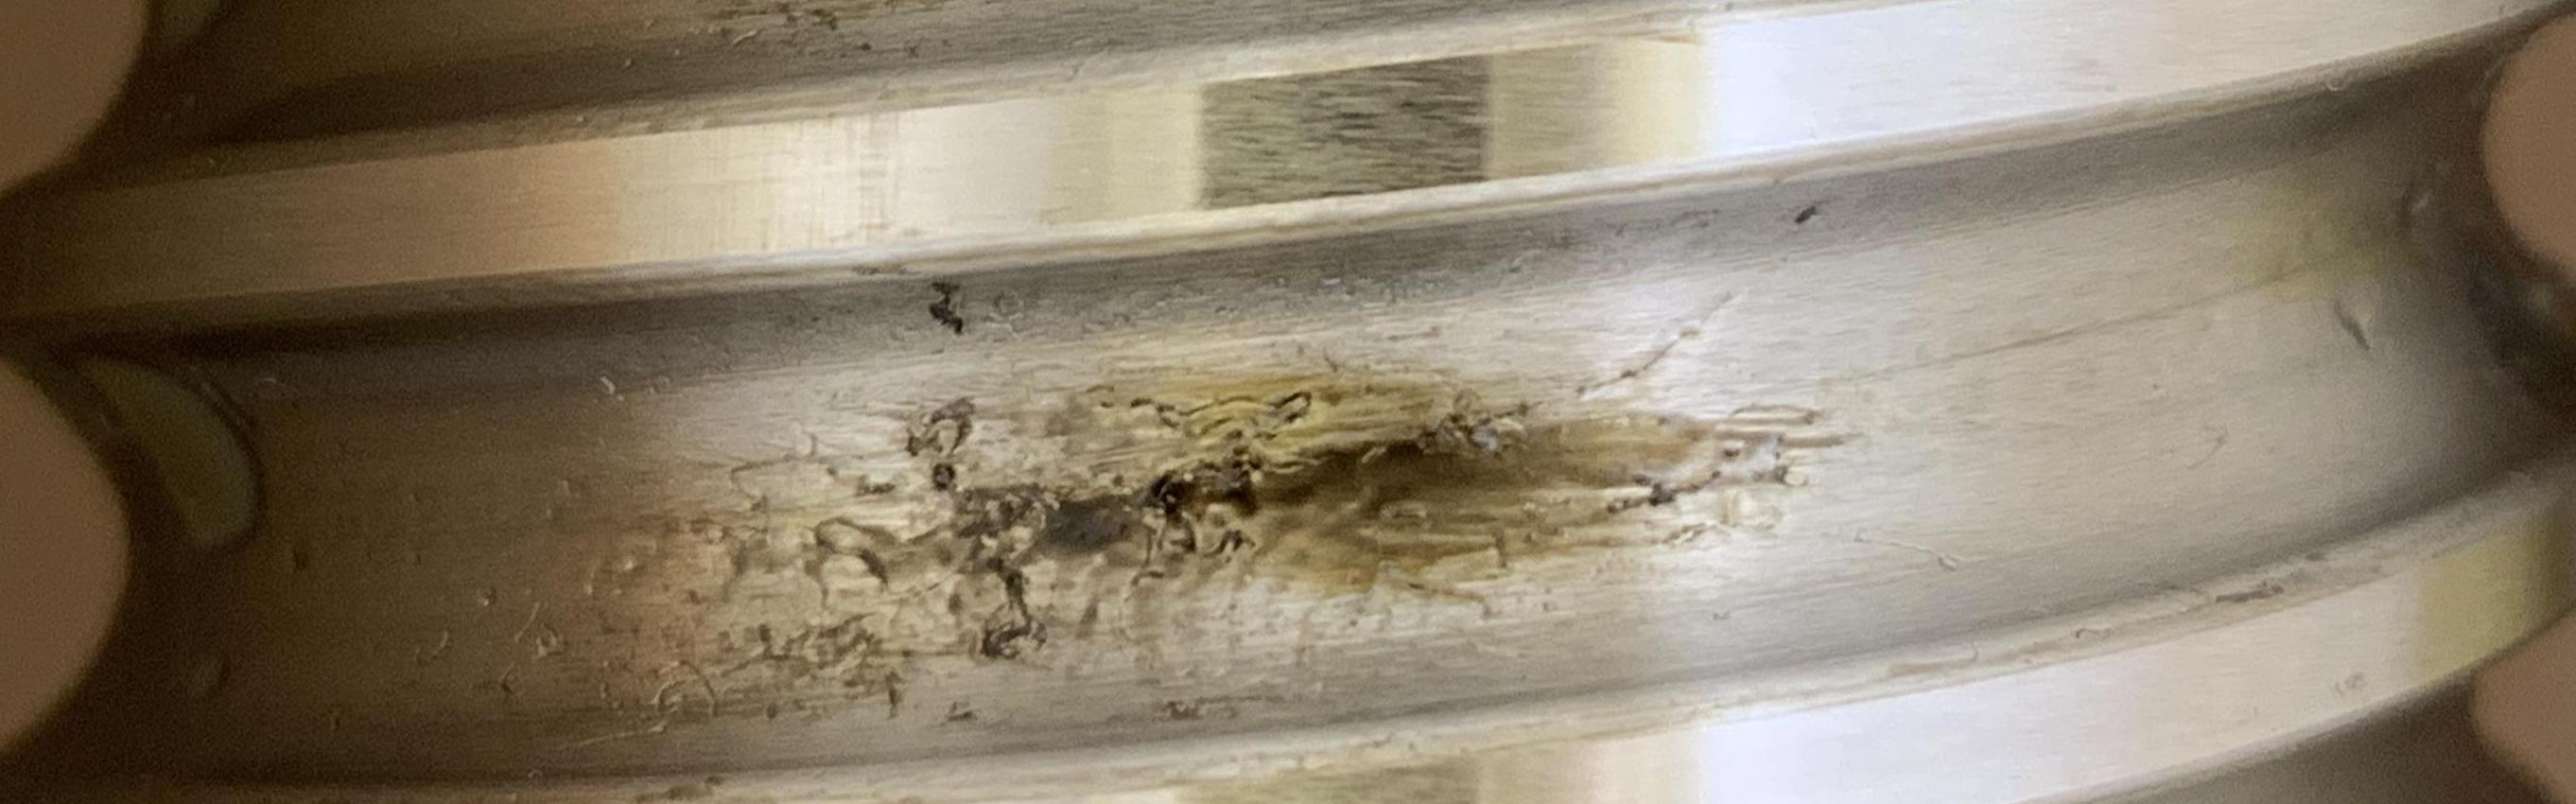pitting: (928, 281, 964, 335), (1796, 206, 1817, 224)
